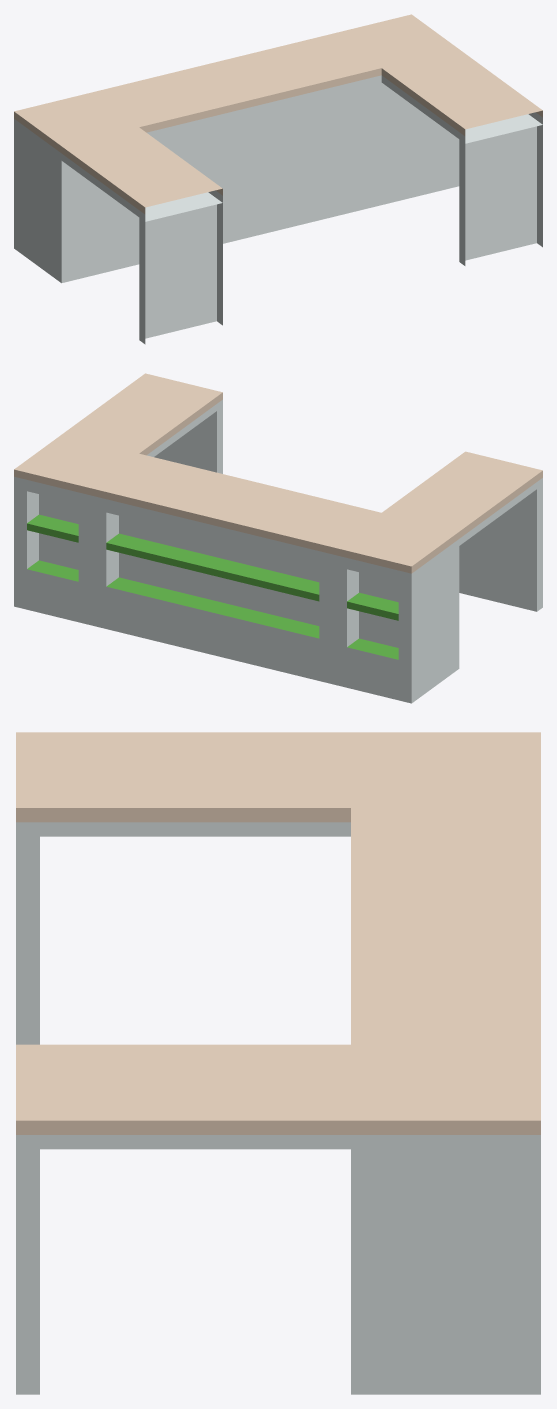
The model's file is Table_caffe.fbx.
The picture shows the model from 3 angles, top to bottom: view 1: azimuth 30°, elevation 25°; view 2: azimuth 150°, elevation 25°; view 3: azimuth 270°, elevation 25°; orthographic projection. The views are drawn at different scales.
Parts seen in each view (by area): view 1: table_caffe.001; view 2: table_caffe.001; view 3: table_caffe.001.
Boxes of the visible parts, x1,y1,x2,y2 form: table_caffe.001: [14, 14, 542, 344]; table_caffe.001: [14, 373, 542, 703]; table_caffe.001: [16, 732, 540, 1394].
Size of the model in its own units: 3.28 by 1.08 by 1.88.
